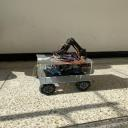cart: (36, 54, 94, 95)
